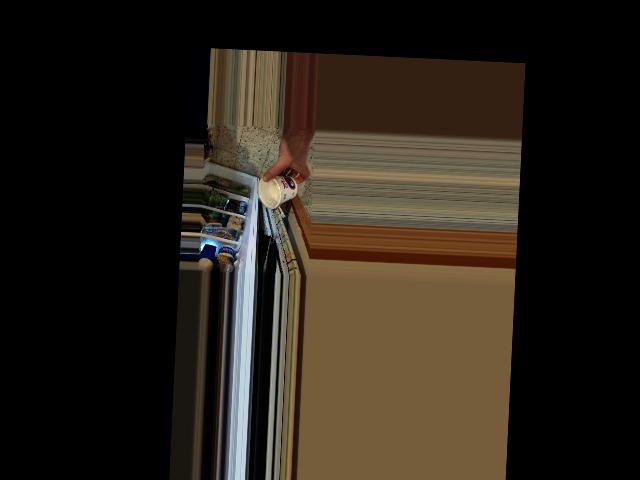cotage: (261, 175, 294, 211)
